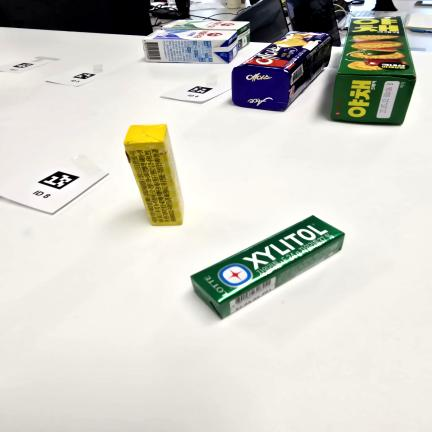gum_green: (191, 215, 344, 318)
gum_yellow: (124, 124, 183, 226)
